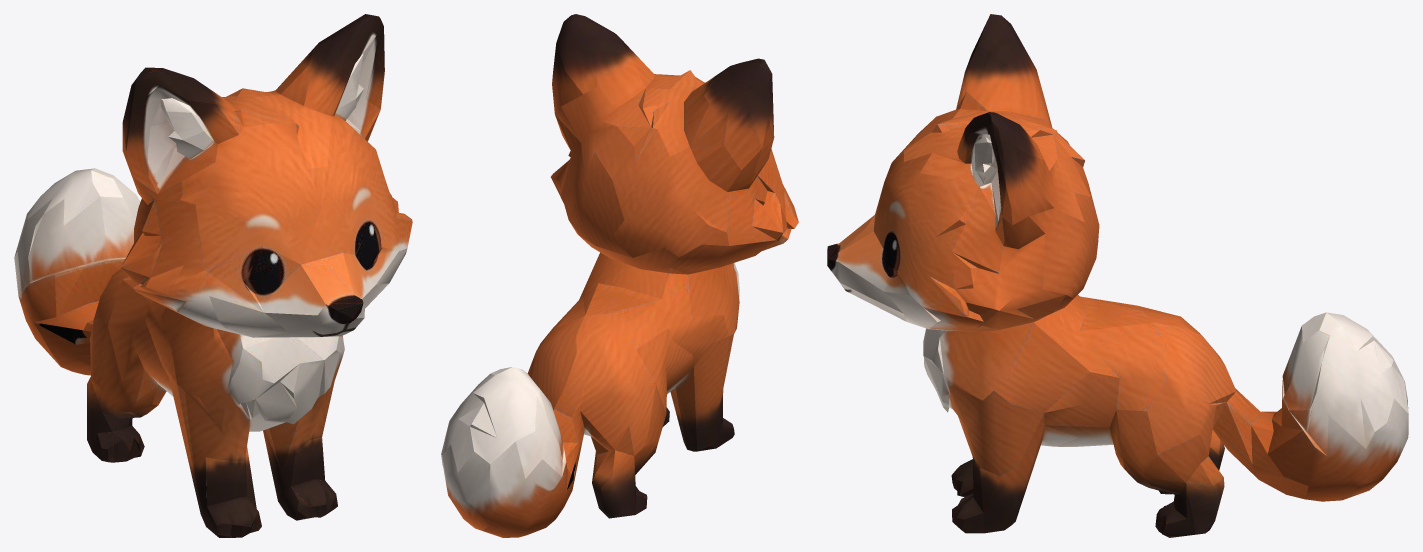
The model's file is toy-fox.glb.
3 views of the same model, side by side, from view 1: azimuth 30°, elevation 25°; view 2: azimuth 150°, elevation 25°; view 3: azimuth 270°, elevation 25° (orthographic). The views are drawn at different scales.
Parts seen in each view (by area): view 1: Prize_Batch0; view 2: Prize_Batch0; view 3: Prize_Batch0.
Boxes of the visible parts, x1,y1,x2,y2 form: Prize_Batch0: (14,14,412,537); Prize_Batch0: (441,14,798,537); Prize_Batch0: (827,14,1408,537).
Size of the model in its own units: 0.0164 by 0.0271 by 0.032.
Materials: 1 (1 with a texture image).
